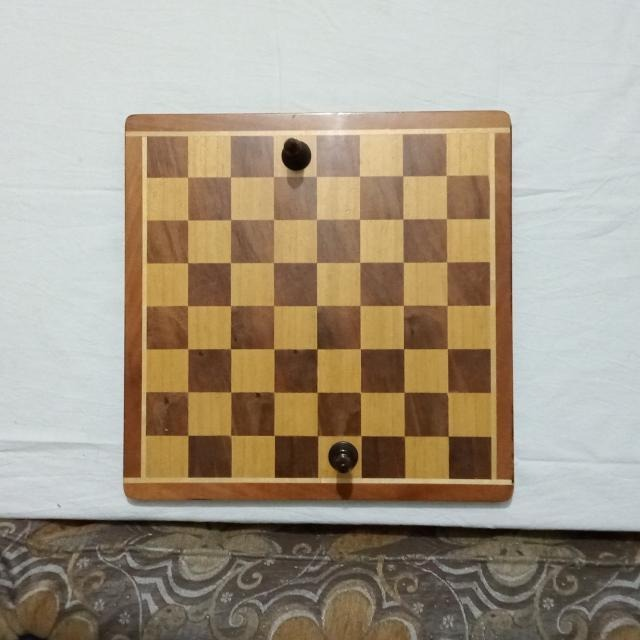black-bishop: (280, 136, 314, 171), (327, 439, 361, 472)
